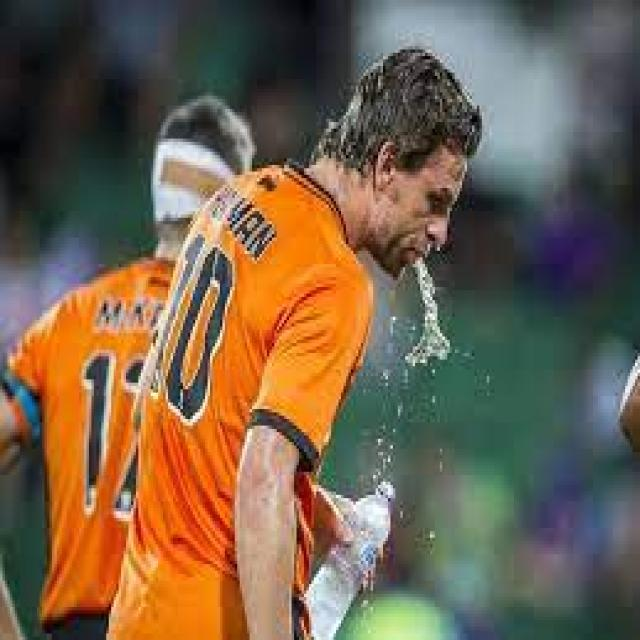Spitting: (330, 46, 502, 378)
